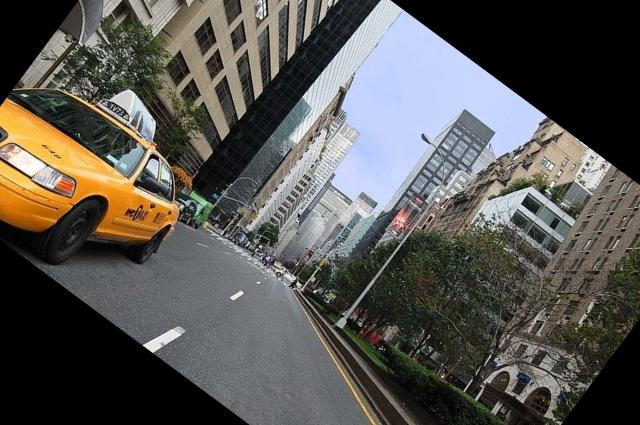taxi: (1, 65, 188, 266)
